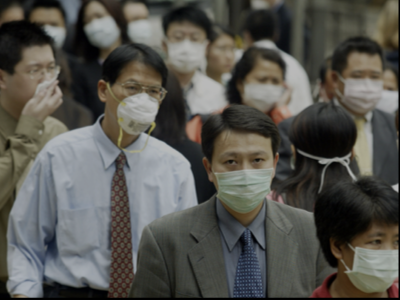with_mask: (210, 145, 275, 214), (341, 228, 397, 292), (105, 77, 162, 132), (336, 64, 383, 113), (165, 27, 207, 75), (239, 71, 284, 113), (81, 7, 119, 49), (30, 15, 68, 50), (125, 10, 152, 44), (377, 81, 397, 114)
without_mask: (5, 56, 59, 108), (207, 41, 235, 72)
